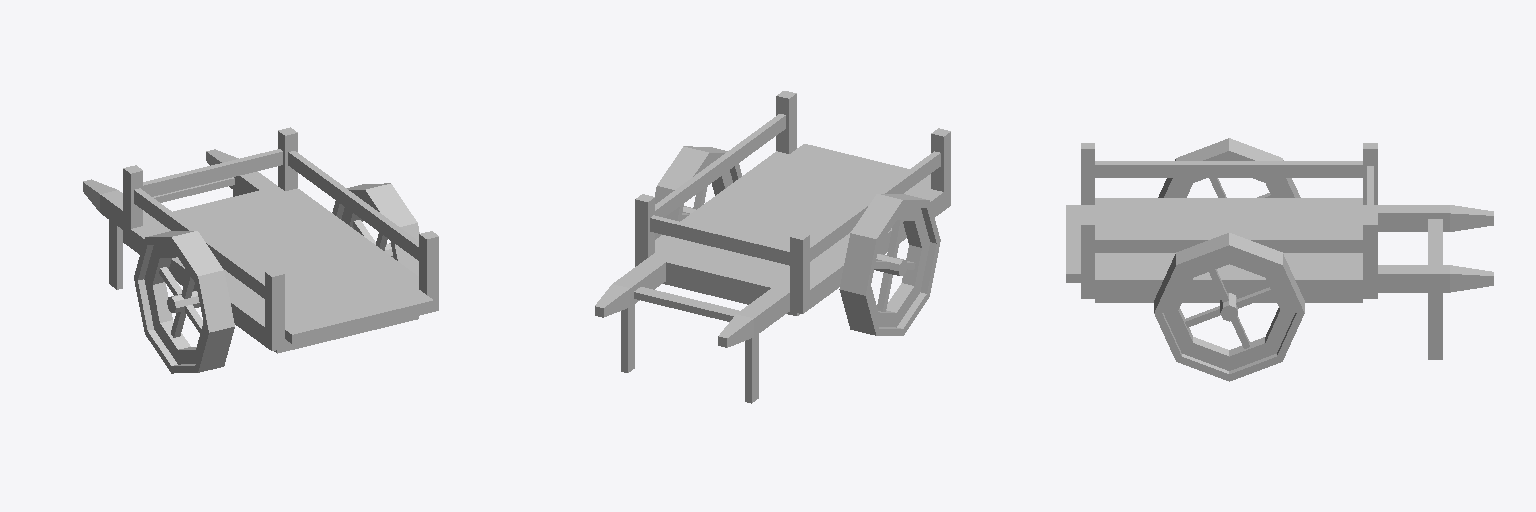
The model's file is cart.obj.
The picture shows the model from 3 angles: view 1: azimuth 30°, elevation 25°; view 2: azimuth 150°, elevation 25°; view 3: azimuth 270°, elevation 25°; orthographic projection.
Parts seen in each view (by area): view 1: mesh_0, mesh_4, mesh_3, mesh_2, mesh_1; view 2: mesh_0, mesh_4, mesh_3, mesh_2, mesh_1; view 3: mesh_0, mesh_1, mesh_2, mesh_4, mesh_3.
Boxes of the visible parts, box(x1,y1,x2,y2) form: mesh_0: box(83, 127, 438, 353); mesh_4: box(134, 231, 234, 373); mesh_3: box(144, 244, 204, 364); mesh_2: box(332, 183, 419, 275); mesh_1: box(341, 197, 393, 257); mesh_0: box(595, 91, 950, 403); mesh_4: box(839, 194, 940, 335); mesh_3: box(870, 207, 929, 327); mesh_2: box(655, 146, 741, 239); mesh_1: box(681, 160, 732, 220); mesh_0: box(1066, 143, 1493, 359); mesh_1: box(1163, 253, 1295, 370); mesh_2: box(1154, 233, 1304, 381); mesh_4: box(1158, 138, 1300, 197); mesh_3: box(1172, 158, 1286, 197).
Size of the model in its own units: 0.8768 by 0.5507 by 1.48.